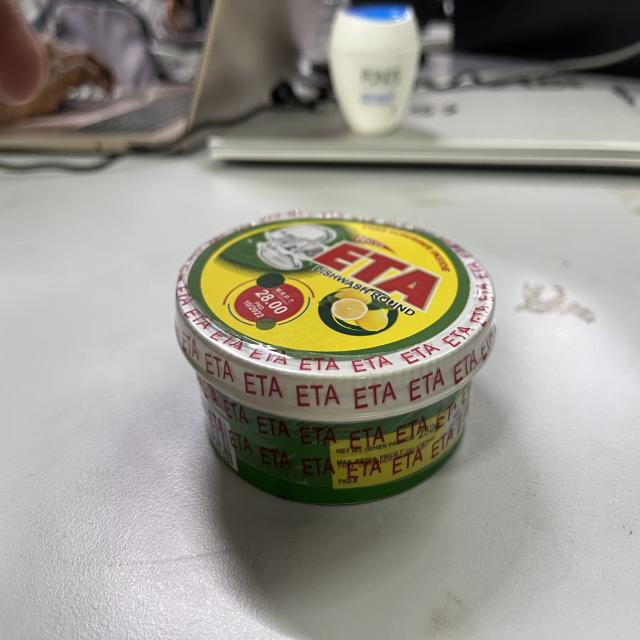L2: (157, 209, 504, 497)
